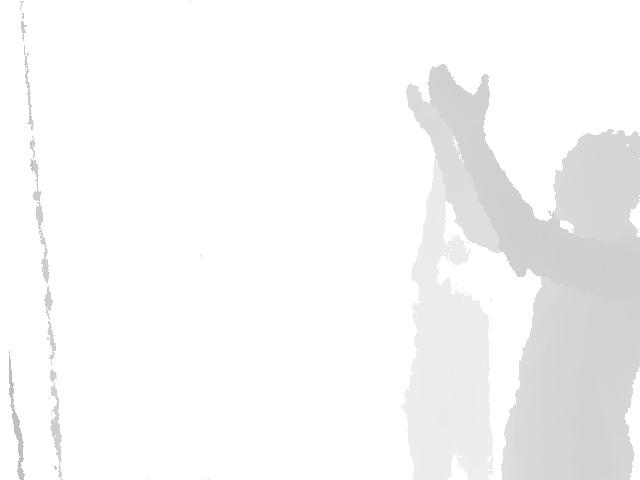hand: (427, 63, 491, 126), (405, 83, 457, 141)
head: (553, 128, 639, 221), (440, 215, 473, 268)
person: (404, 63, 640, 480), (399, 154, 495, 480)
